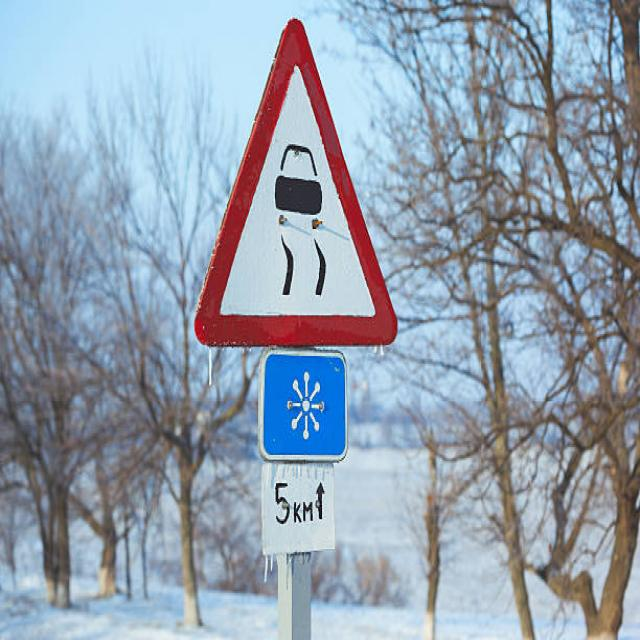road_slippery: (193, 15, 411, 348)
